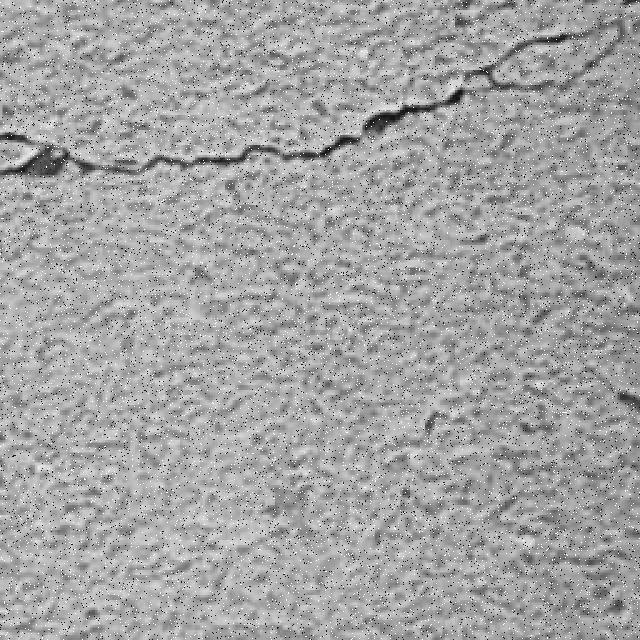crack: (1, 13, 629, 178), (121, 147, 278, 172), (34, 148, 160, 177)
